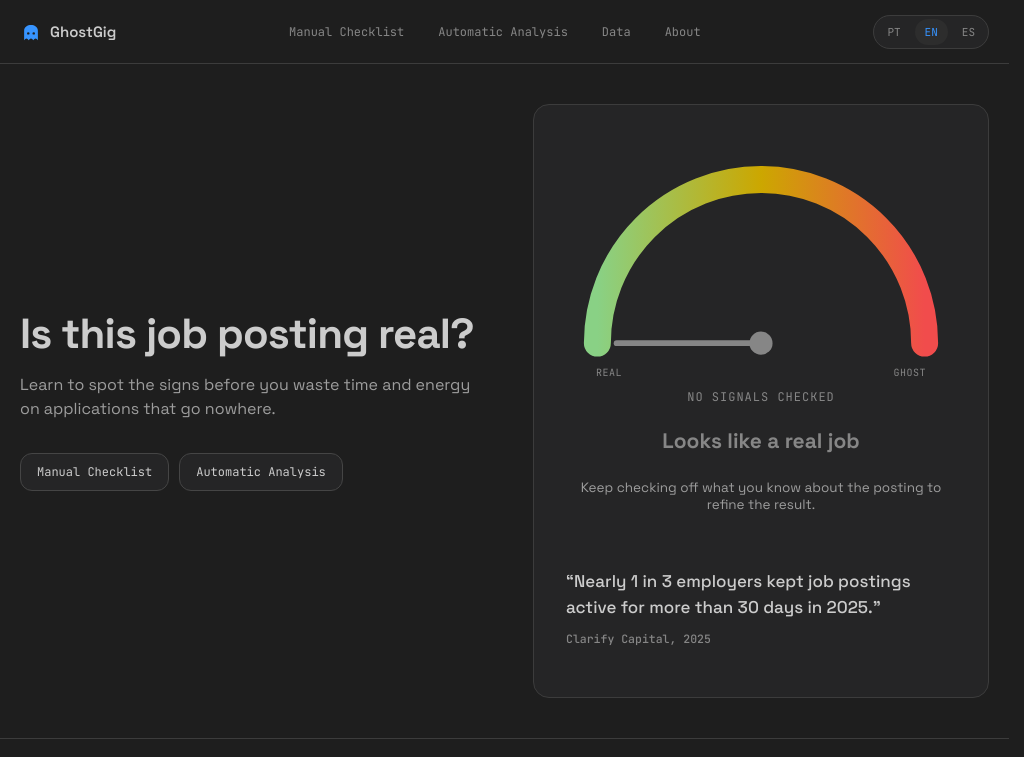
Scenario: App - language switch persists across the visible language buttons › switches every page string to Portuguese when PT is selected
This screenshot has width=1024, height=757.
Click the button "PT" at (894, 32), box [877, 18, 911, 44]
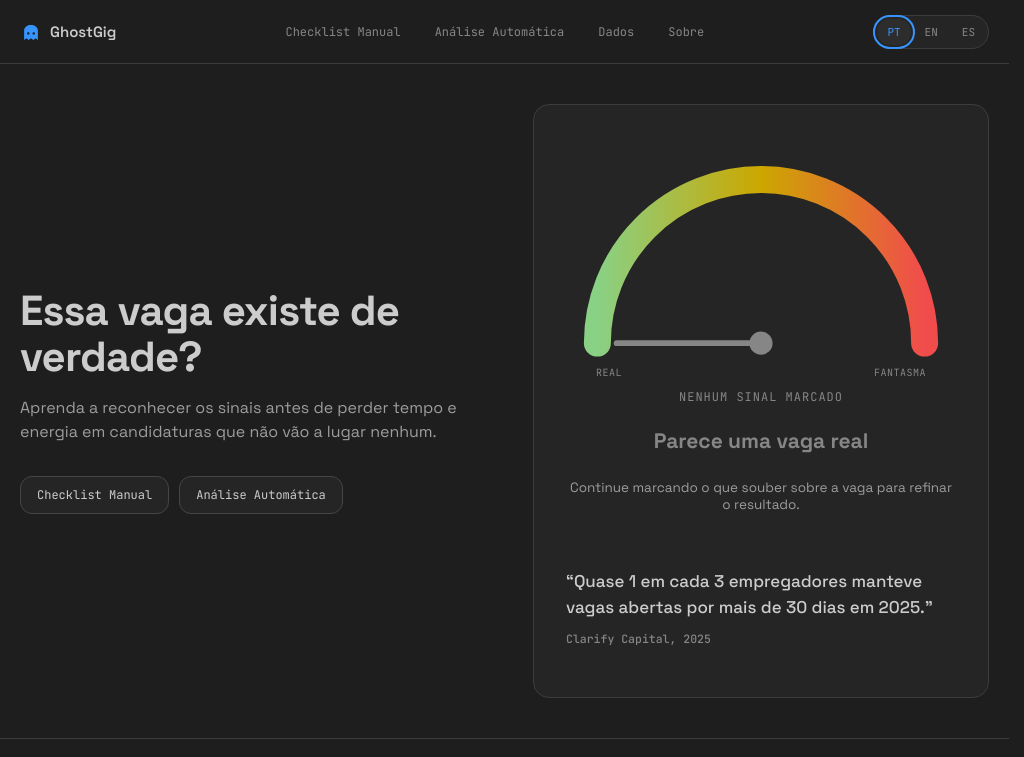
Expected: the heading "Essa vaga existe de verdade?" is shown, [20, 284, 399, 383]
